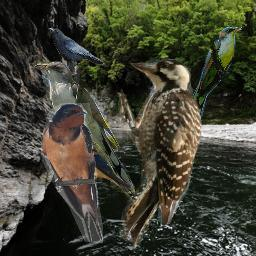Crow: (48, 28, 104, 75)
Cuckoo: (34, 61, 135, 194), (184, 27, 242, 122)
Swallow: (41, 103, 103, 243), (85, 146, 138, 206)
Woodpecker: (114, 54, 203, 253)
